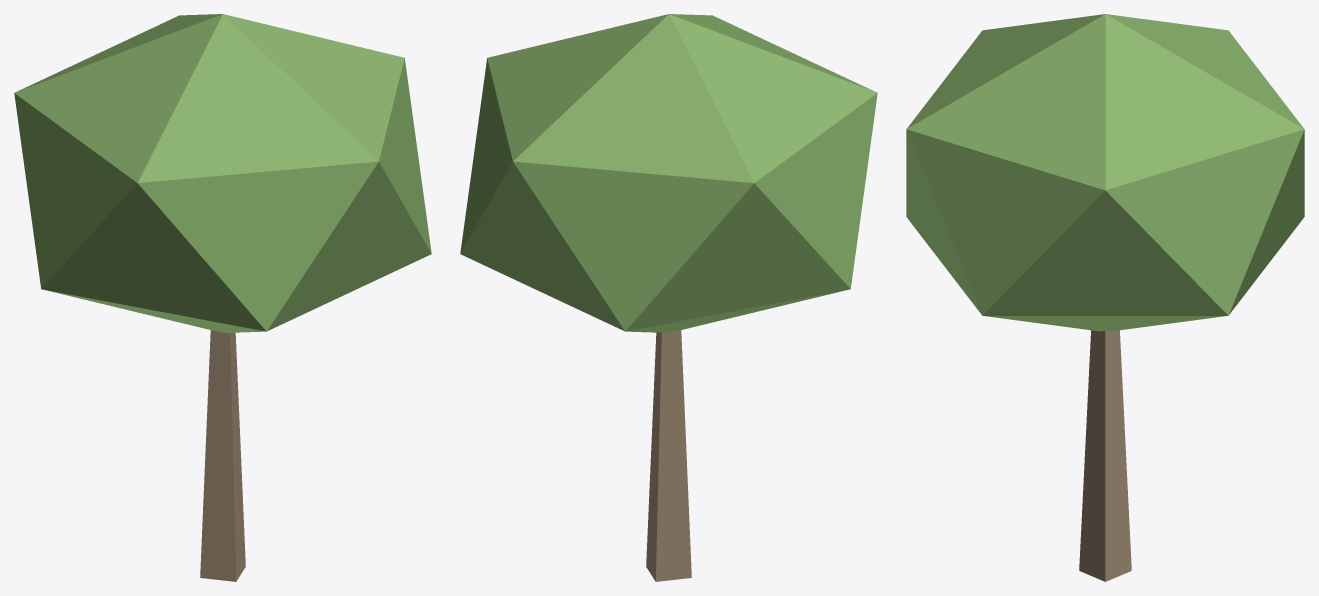
File: oak_lod.glb
3 views of the same model, side by side, from view 1: azimuth 30°, elevation 25°; view 2: azimuth 150°, elevation 25°; view 3: azimuth 270°, elevation 25° (orthographic).
Parts seen in each view (by area): view 1: oak_lod; view 2: oak_lod; view 3: oak_lod.
Boxes of the visible parts, box(x1,y1,x2,y2) form: oak_lod: box(14, 14, 431, 581); oak_lod: box(460, 14, 877, 581); oak_lod: box(906, 14, 1304, 581).
Size of the model in its own units: 7.16 by 10.5 by 6.81.
